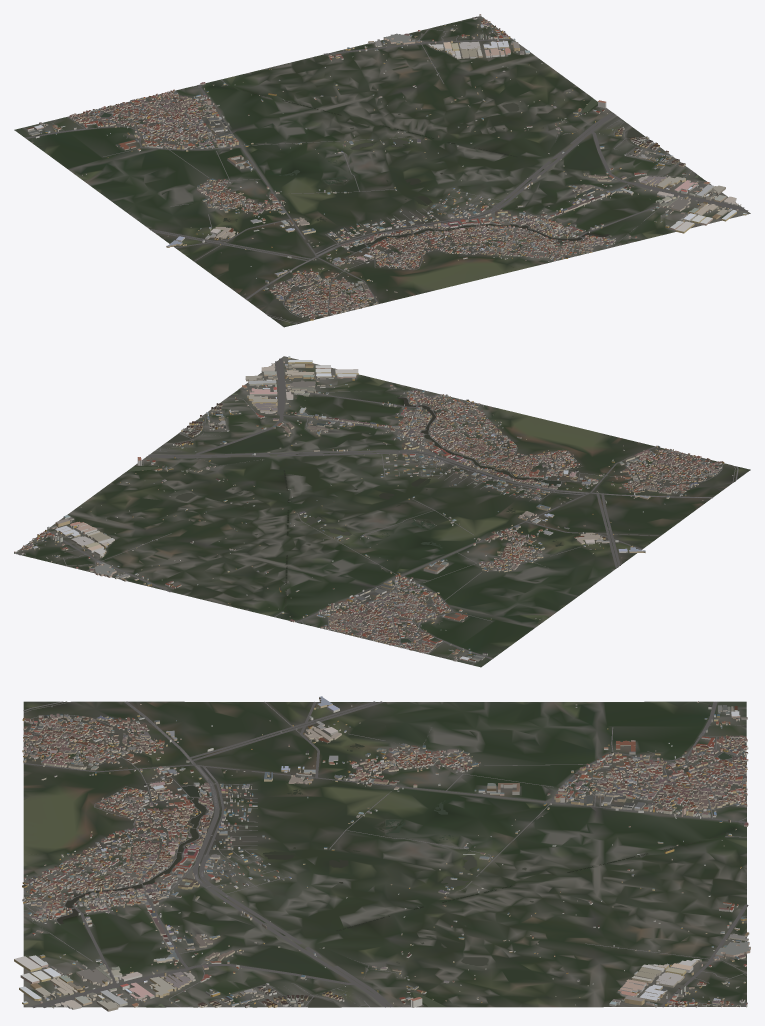
3 renders of one model, top to bottom at view 1: azimuth 30°, elevation 25°; view 2: azimuth 150°, elevation 25°; view 3: azimuth 270°, elevation 25°, orthographic. The views are drawn at different scales.
Parts seen in each view (by area): view 1: ground, buildings, roads, water; view 2: ground, buildings, roads, water; view 3: ground, buildings, roads, water.
Part boxes in pixels (box(x1,y1,x2,y2)): ground: box(14, 16, 750, 327); buildings: box(27, 14, 746, 320); roads: box(25, 16, 748, 323); water: box(100, 86, 701, 320); ground: box(16, 356, 750, 667); buildings: box(14, 356, 733, 662); roads: box(16, 358, 738, 659); water: box(127, 392, 736, 642); ground: box(23, 701, 746, 1007); buildings: box(14, 696, 750, 1011); roads: box(23, 701, 748, 1007); water: box(40, 701, 743, 1007).
Size of the model in its own units: 2877 by 34.6 by 2857.
